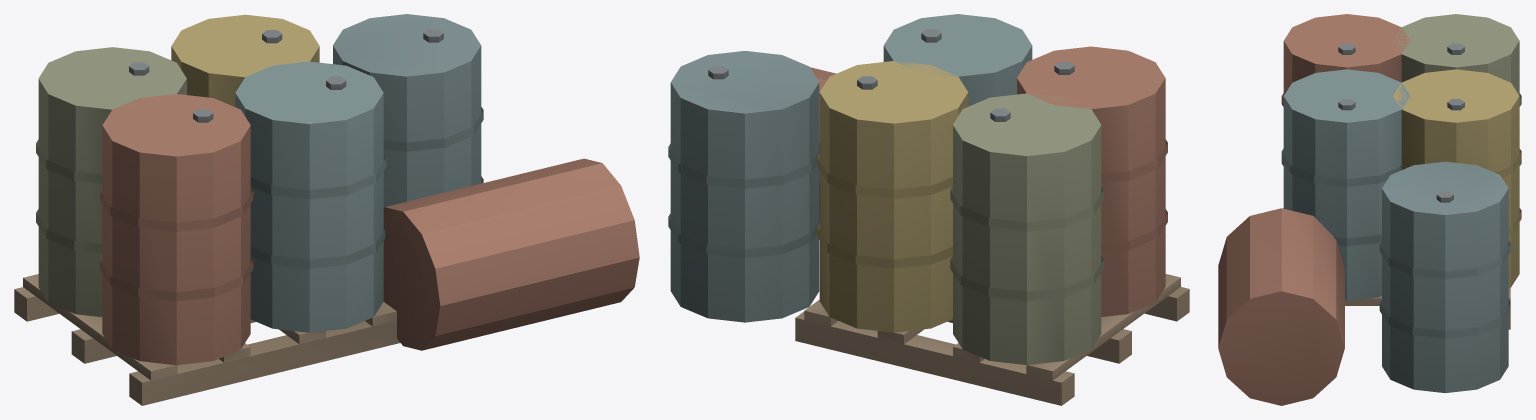
Rendered from mil_drums.glb.
3 renders of one model, left to right at view 1: azimuth 30°, elevation 25°; view 2: azimuth 150°, elevation 25°; view 3: azimuth 270°, elevation 25°, orthographic. The views are drawn at different scales.
Parts seen in each view (by area): view 1: mil_drums; view 2: mil_drums; view 3: mil_drums.
Part boxes in pixels (bbox=[...]): mil_drums: bbox=[14, 14, 639, 405]; mil_drums: bbox=[668, 14, 1189, 405]; mil_drums: bbox=[1218, 14, 1521, 405].
Size of the model in its own units: 2.05 by 1.06 by 1.39.
